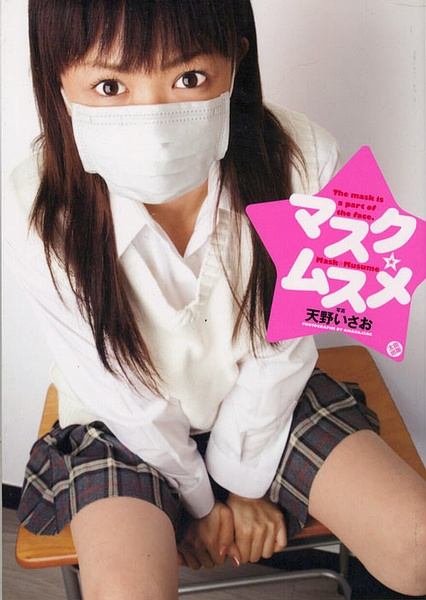face_mask: (66, 1, 230, 202)
